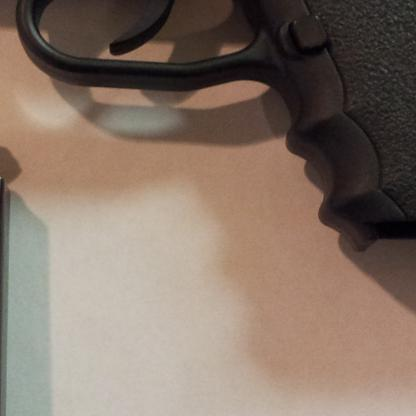gun: (0, 0, 416, 268)
